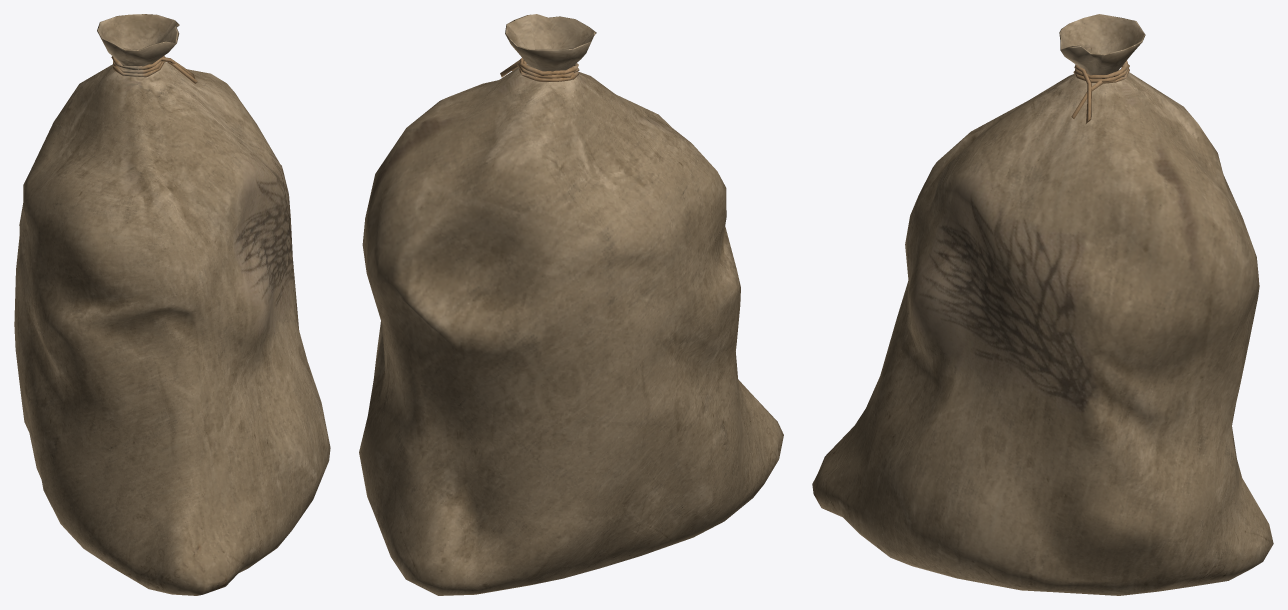
File: SM_Sack.fbx
3 views of the same model, side by side, from view 1: azimuth 30°, elevation 25°; view 2: azimuth 150°, elevation 25°; view 3: azimuth 270°, elevation 25° (orthographic). The views are drawn at different scales.
Visible parts, largest first — view 1: SM_Sack_LOD0; view 2: SM_Sack_LOD0; view 3: SM_Sack_LOD0.
Boxes of the visible parts, x1,y1,x2,y2 form: SM_Sack_LOD0: (14, 14, 330, 595); SM_Sack_LOD0: (359, 14, 783, 595); SM_Sack_LOD0: (812, 14, 1273, 595).
Bounding box in the file's own units: 49.16 × 65 × 79.92.
Materials: 1 (1 with a texture image).
